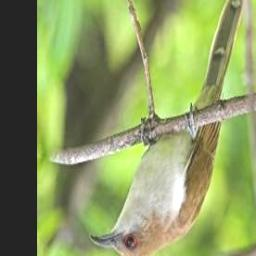Cuckoo: (88, 0, 244, 256)
